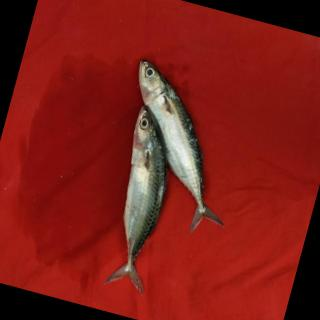Ikan: (58, 48, 270, 319)
